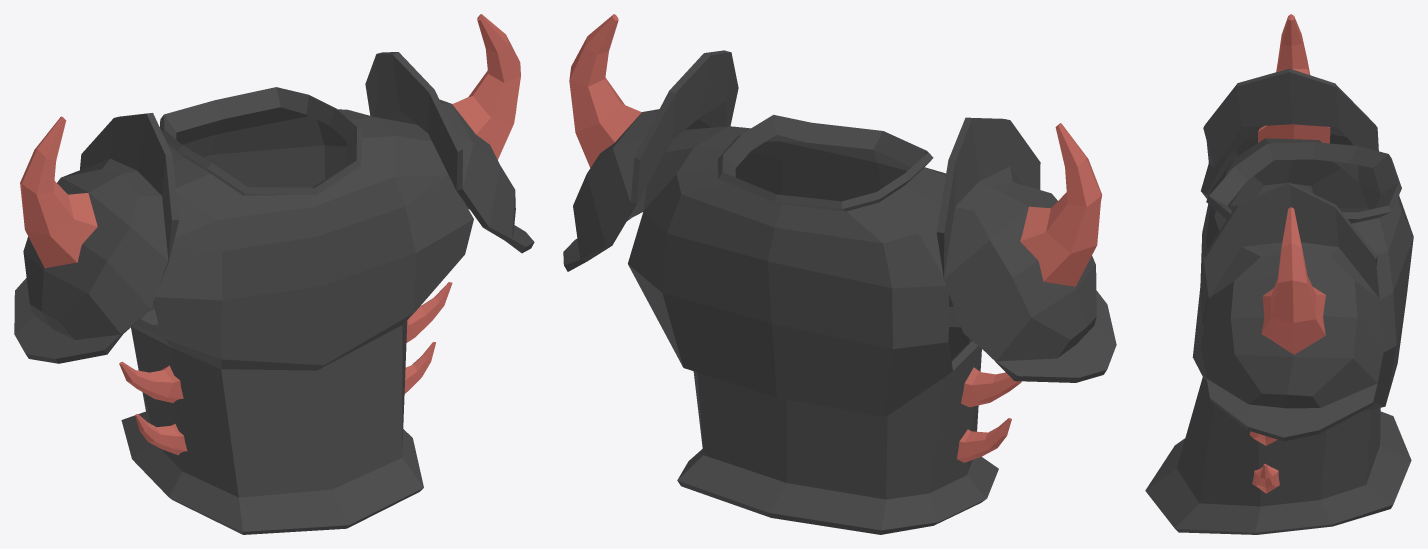
File: Armor_Black.glb
3 renders of one model, left to right at view 1: azimuth 30°, elevation 25°; view 2: azimuth 150°, elevation 25°; view 3: azimuth 270°, elevation 25°, orthographic. The views are drawn at different scales.
Parts seen in each view (by area): view 1: Armor_Black; view 2: Armor_Black; view 3: Armor_Black.
Part boxes in pixels (x1,y1,x2,y2): Armor_Black: [14, 14, 534, 534]; Armor_Black: [563, 14, 1116, 534]; Armor_Black: [1145, 14, 1413, 534].
Bounding box in the file's own units: 154 × 120 × 75.95.
